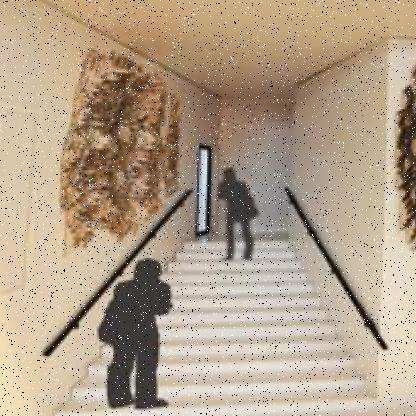stair_up: (90, 349, 354, 416)
